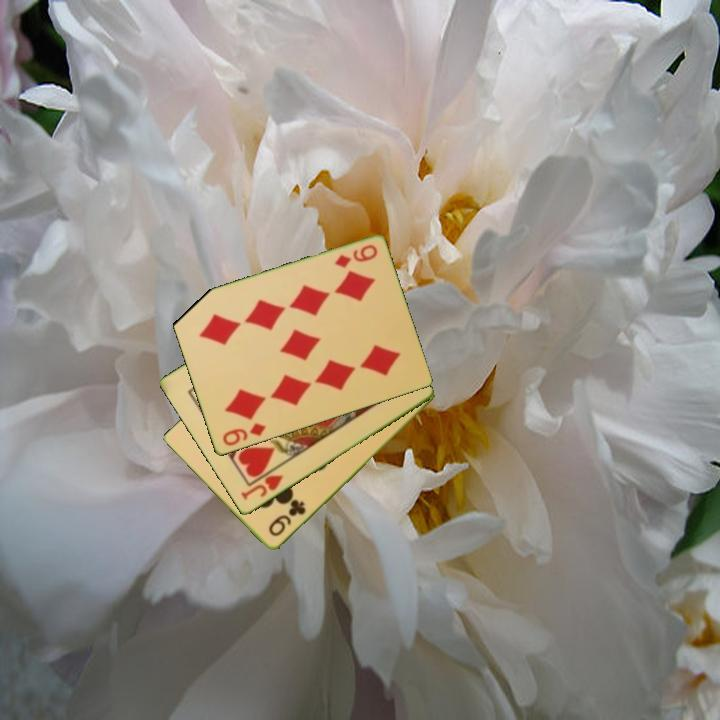9c: (265, 497, 309, 540)
9d: (331, 241, 380, 271), (219, 420, 268, 449)
Jh: (237, 472, 286, 503)
